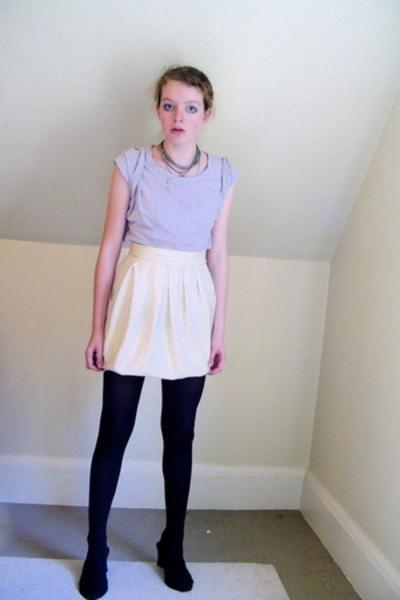shirt: (114, 148, 238, 253)
shoe: (78, 540, 192, 599)
skirt: (104, 241, 215, 383)
